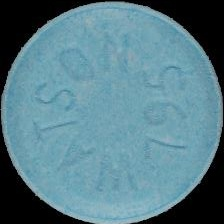0615-7755: (0, 0, 224, 224)
